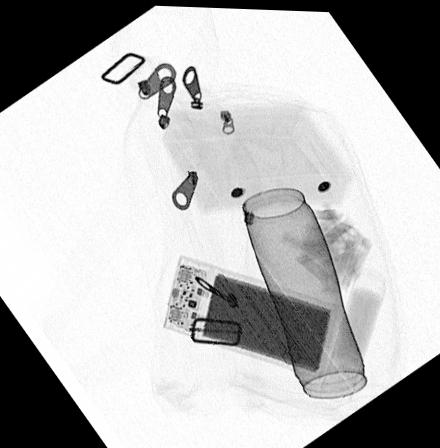Powerbank: (162, 254, 338, 376)
